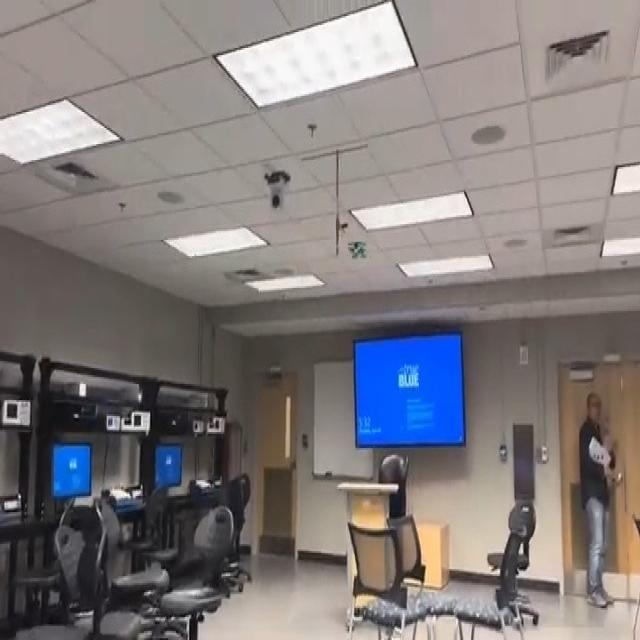drone: (344, 227, 378, 270)
